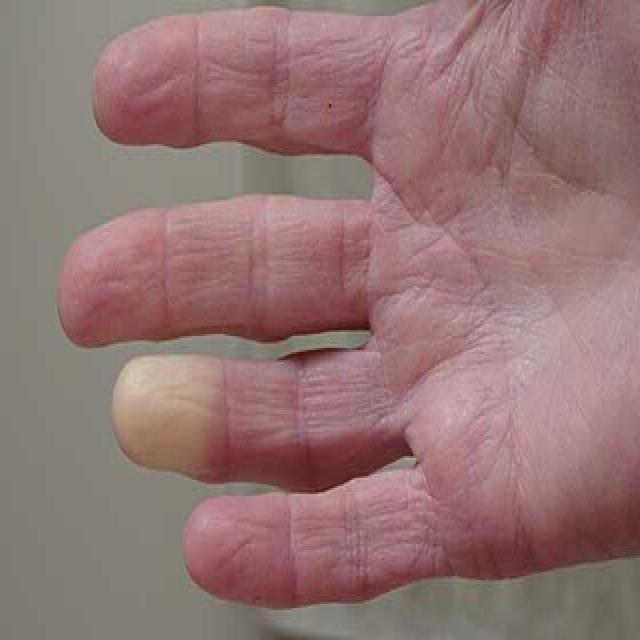raynauds: (113, 359, 215, 483)
